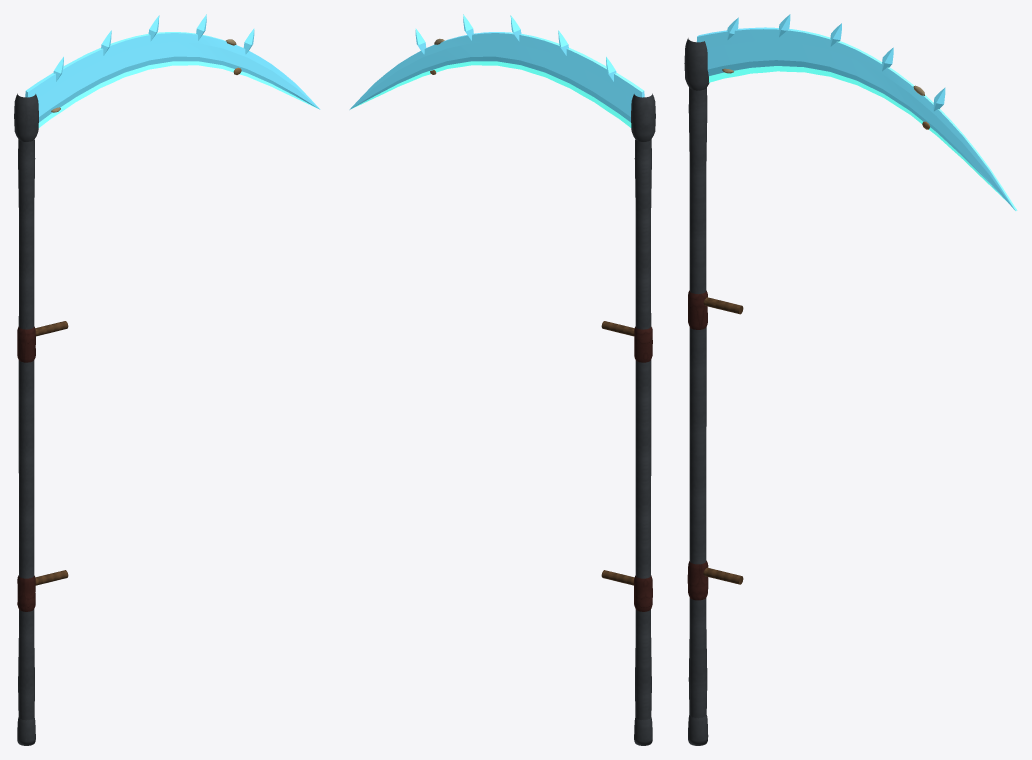
The model's file is crystal-scythe.lod1.glb.
The picture shows the model from 3 angles, left to right: view 1: azimuth 30°, elevation 25°; view 2: azimuth 150°, elevation 25°; view 3: azimuth 330°, elevation 25°; orthographic projection. The views are drawn at different scales.
Visible parts, largest first — view 1: darksteel / oil-blackened fittings, crystal / faceted crystal, leather / oiled leather wrap, energy / emissive field channel, wood / oiled hardwood; view 2: darksteel / oil-blackened fittings, crystal / faceted crystal, energy / emissive field channel, leather / oiled leather wrap, wood / oiled hardwood; view 3: darksteel / oil-blackened fittings, crystal / faceted crystal, energy / emissive field channel, leather / oiled leather wrap, wood / oiled hardwood.
Part boxes in pixels (x1,y1,x2,y2): darksteel / oil-blackened fittings: (14,93,38,745); crystal / faceted crystal: (25,14,320,122); leather / oiled leather wrap: (17,326,35,611); energy / emissive field channel: (38,61,317,127); wood / oiled hardwood: (35,321,68,585); darksteel / oil-blackened fittings: (631,93,655,745); crystal / faceted crystal: (349,14,644,122); energy / emissive field channel: (352,61,631,127); leather / oiled leather wrap: (634,326,652,611); wood / oiled hardwood: (601,321,634,585); darksteel / oil-blackened fittings: (684,38,709,745); crystal / faceted crystal: (696,14,1016,210); energy / emissive field channel: (709,66,1007,202); leather / oiled leather wrap: (687,290,708,600); wood / oiled hardwood: (703,297,743,584).
Bounding box in the file's own units: 0.7674 × 1.67 × 0.0549.
7 materials, 3 textured.
